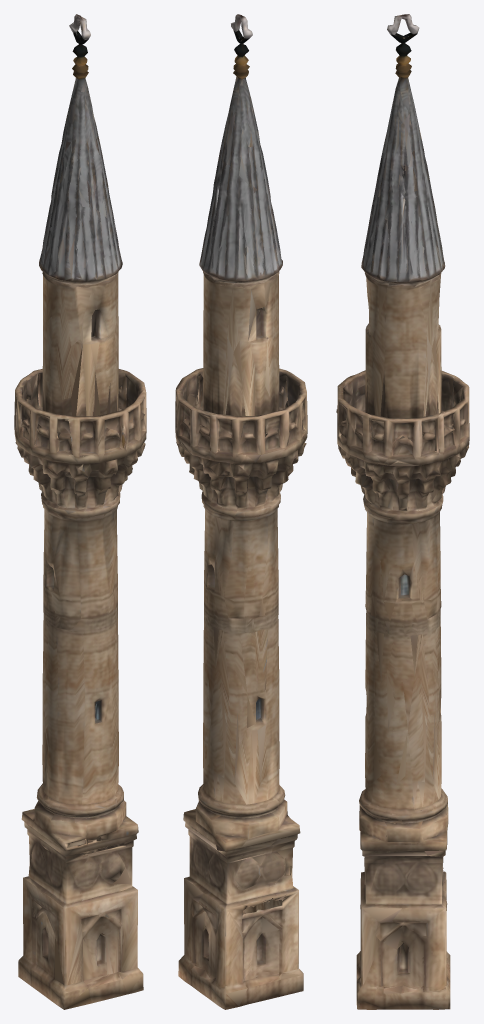
The model's file is cai_minaret_ottoman.glb.
3 renders of one model, left to right at view 1: azimuth 30°, elevation 25°; view 2: azimuth 210°, elevation 25°; view 3: azimuth 270°, elevation 25°, orthographic.
Parts seen in each view (by area): view 1: prop; view 2: prop; view 3: prop.
Boxes of the visible parts, bbox=[...] form: prop: bbox=[14, 14, 146, 1009]; prop: bbox=[175, 14, 307, 1009]; prop: bbox=[336, 14, 469, 1009].
Bounding box in the file's own units: 4.95 × 40 × 4.95.
1 material, 1 textured.
